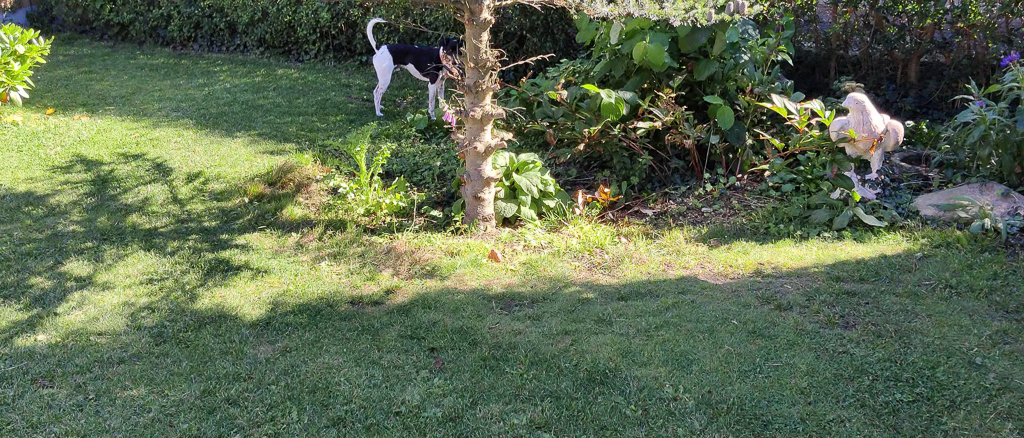Dog: (360, 14, 476, 122)
Eagle: (824, 86, 910, 194)
